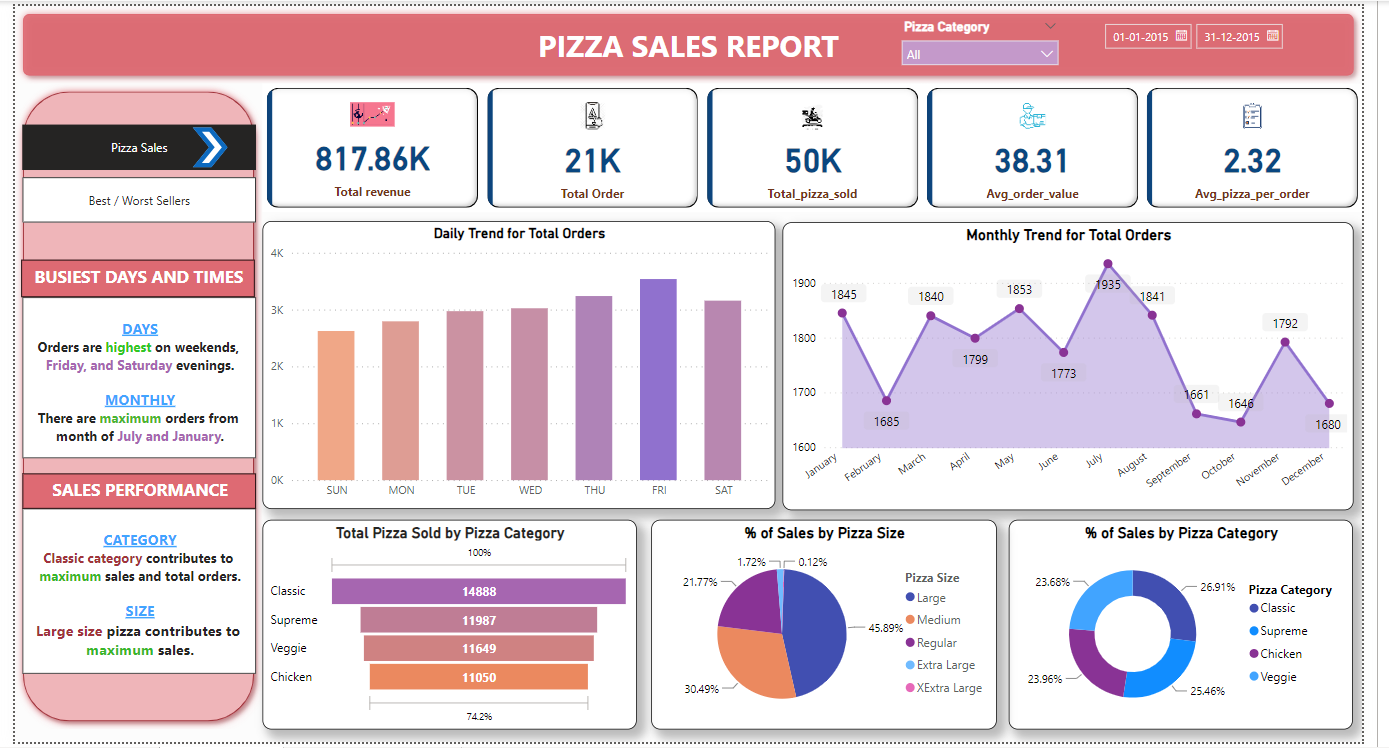

Layout of this report page (visuals, bound fields, positions):
{"tool":"powerbi","page":{"name":"Pizza Sales","canvas":[1500,820],"ordinal":0},"visuals":[{"type":"shape","box":[0,86.1,275,719.4],"z":0},{"type":"cardVisual","fields":{"Data":["pizza_sales.Total revenue","pizza_sales.Total Order","pizza_sales.Total_pizza_sold","pizza_sales.Avg_order_value","pizza_sales.Avg_pizza_per_order"]},"box":[275,86.1,1225,143.1],"z":1000},{"type":"columnChart","title":"Daily Trend for Total Orders","fields":{"Category":["pizza_sales.Order_day"],"Y":["pizza_sales.Total Order"]},"box":[275,238.9,570.8,320.8],"z":2000},{"type":"shape","box":[0,0,1500,86.1],"z":3000},{"type":"areaChart","title":"Monthly Trend for Total Orders","fields":{"Category":["pizza_sales.Month Name"],"Y":["pizza_sales.Total Order"]},"box":[854.2,240.3,636.1,320.8],"z":4000},{"type":"donutChart","title":"% of Sales by Pizza Category","fields":{"Category":["pizza_sales.pizza_category"],"Y":["pizza_sales.Total revenue"]},"box":[1106.9,572.2,383.3,233.3],"z":5000},{"type":"pieChart","title":"% of Sales by Pizza Size","fields":{"Category":["pizza_sales.pizza_size"],"Y":["pizza_sales.Total revenue"]},"box":[708.3,572.2,384.7,233.3],"z":6000},{"type":"funnel","title":"Total Pizza Sold by Pizza Category","fields":{"Category":["pizza_sales.pizza_category"],"Y":["pizza_sales.Total_pizza_sold"]},"box":[275,572.2,416.7,233.3],"z":7000},{"type":"textbox","box":[7,282.6,260.3,41.8],"z":8000},{"type":"textbox","box":[8.4,324.4,260.3,179.6],"z":9000},{"type":"textbox","box":[8.4,559.7,260.3,183.8],"z":10000},{"type":"textbox","box":[8.4,520.7,260.3,39],"z":11000},{"type":"slicer","fields":{"Values":["pizza_sales.pizza_category"]},"box":[977.8,9.7,194.4,68.1],"z":12000},{"type":"slicer","fields":{"Values":["pizza_sales.order_date"]},"box":[1201.4,9.7,223.6,68.1],"z":13000},{"type":"pageNavigator","box":[8.4,132.3,260.3,50.1],"z":14000},{"type":"pageNavigator","box":[8.4,190.7,260.3,50.1],"z":15000},{"type":"shape","box":[197.7,135,39,44.6],"z":16000}]}

Visuals, with their boxes in screenshot pixels (x1, y1, x2, y2), scaled from the page's 1500x820 canvas onto the 1389x748 screenshot:
shape: (0, 79, 255, 735)
cardVisual - pizza_sales.Total revenue x pizza_sales.Total Order: (255, 79, 1388, 209)
"Daily Trend for Total Orders" columnChart: (255, 218, 783, 511)
shape: (0, 0, 1388, 79)
"Monthly Trend for Total Orders" areaChart: (791, 219, 1380, 512)
"% of Sales by Pizza Category" donutChart: (1025, 522, 1380, 735)
"% of Sales by Pizza Size" pieChart: (656, 522, 1012, 735)
"Total Pizza Sold by Pizza Category" funnel: (255, 522, 641, 735)
textbox: (6, 258, 248, 296)
textbox: (8, 296, 249, 460)
textbox: (8, 511, 249, 678)
textbox: (8, 475, 249, 511)
slicer - pizza_sales.pizza_category: (905, 9, 1085, 71)
slicer - pizza_sales.order_date: (1112, 9, 1320, 71)
pageNavigator: (8, 121, 249, 166)
pageNavigator: (8, 174, 249, 220)
shape: (183, 123, 219, 164)
